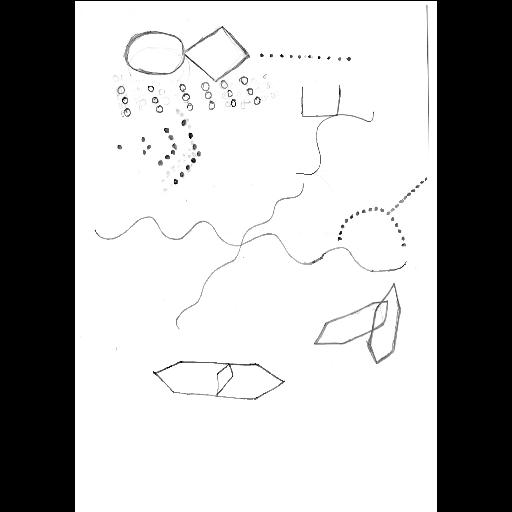shape-1: (124, 20, 250, 82)
shape-2: (256, 44, 354, 68)
shape-3: (114, 74, 264, 118)
shape-4: (116, 118, 202, 186)
shape-5: (294, 81, 376, 177)
shape-6: (338, 174, 430, 248)
shape-7: (93, 184, 405, 330)
shape-8: (314, 281, 402, 363)
shape-9: (154, 356, 288, 402)
